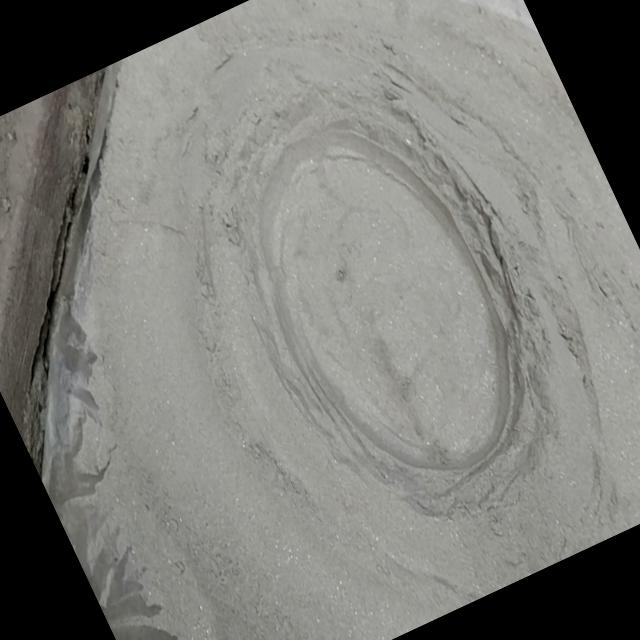C40: (264, 127, 511, 472)
